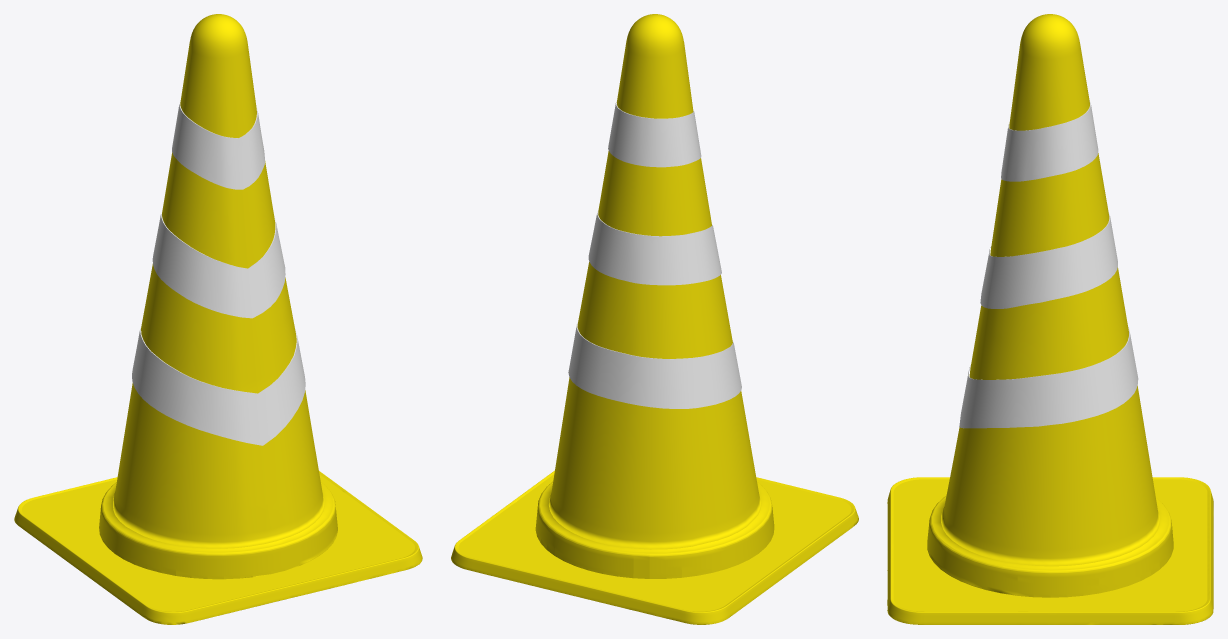
Rendered from Preset_ScotCone_YEL.fbx.
3 views of the same model, side by side, from view 1: azimuth 30°, elevation 25°; view 2: azimuth 150°, elevation 25°; view 3: azimuth 270°, elevation 25° (orthographic). The views are drawn at different scales.
Parts seen in each view (by area): view 1: c_upper, c_bottom, bottom, c_middle, middle, c_bottom2, upper; view 2: c_upper, c_bottom, bottom, c_middle, c_bottom2, middle, upper; view 3: c_upper, c_bottom, bottom, c_middle, middle, c_bottom2, upper.
Part boxes in pixels (x1,y1,x2,y2): c_upper: (113,14,324,548); c_bottom: (22,475,414,611); bottom: (132,320,305,445); c_middle: (99,482,337,579); middle: (152,207,285,318); c_bottom2: (14,471,422,624); upper: (172,99,264,189); c_upper: (549,14,761,549); c_bottom: (458,474,851,611); bottom: (568,322,741,408); c_middle: (535,481,774,578); c_bottom2: (451,470,858,624); middle: (588,210,721,285); upper: (608,101,701,167); c_upper: (941,14,1159,566); c_bottom: (893,479,1207,611); bottom: (959,326,1138,428); c_middle: (927,496,1173,597); middle: (980,213,1117,308); c_bottom2: (887,477,1213,624); upper: (1001,101,1098,181).
Bounding box in the file's own units: 38.28 × 38.28 × 69.87.
